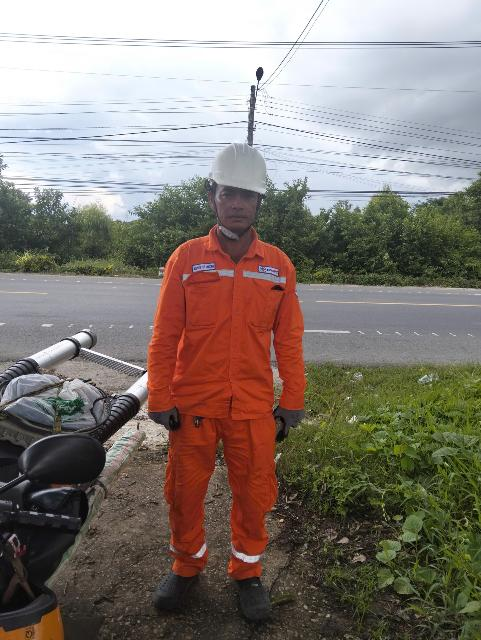gloves: (142, 369, 194, 433), (278, 381, 315, 446)
helmet: (202, 134, 276, 207)
shoes: (226, 559, 295, 633), (157, 545, 207, 613)
